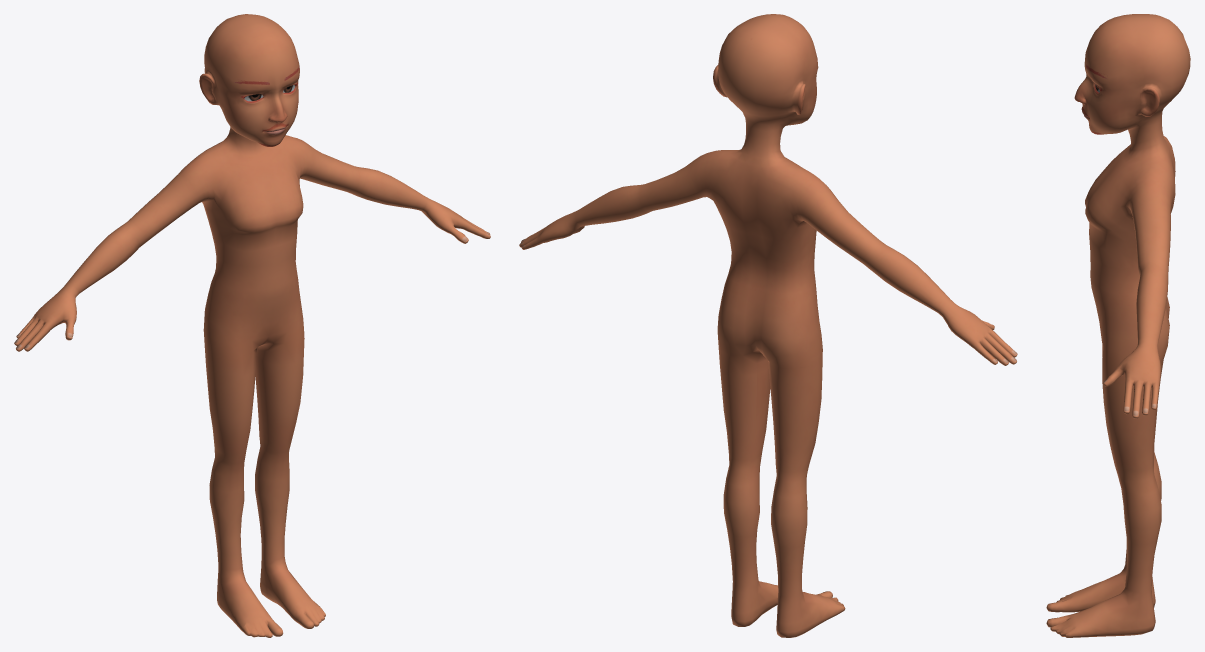
Rendered from frame_0082.glb.
The picture shows the model from 3 angles, left to right: view 1: azimuth 30°, elevation 25°; view 2: azimuth 150°, elevation 25°; view 3: azimuth 270°, elevation 25°; orthographic projection. The views are drawn at different scales.
Visible parts, largest first — view 1: frame_0082_head_geo; view 2: frame_0082_head_geo; view 3: frame_0082_head_geo.
Boxes of the visible parts, x1,y1,x2,y2 form: frame_0082_head_geo: (14,14,490,637); frame_0082_head_geo: (519,14,1017,637); frame_0082_head_geo: (1046,14,1190,637).
Bounding box in the file's own units: 1.28 × 1.5 × 0.3253.
Materials: 3 (3 with a texture image).
